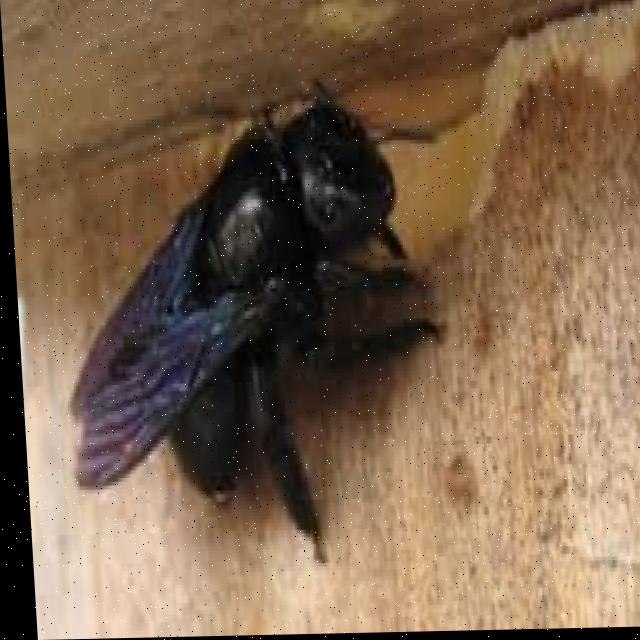Xylocopa: (46, 78, 463, 549)
